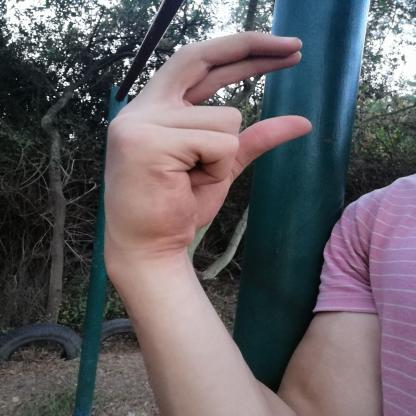DHELL: (86, 22, 332, 269)
